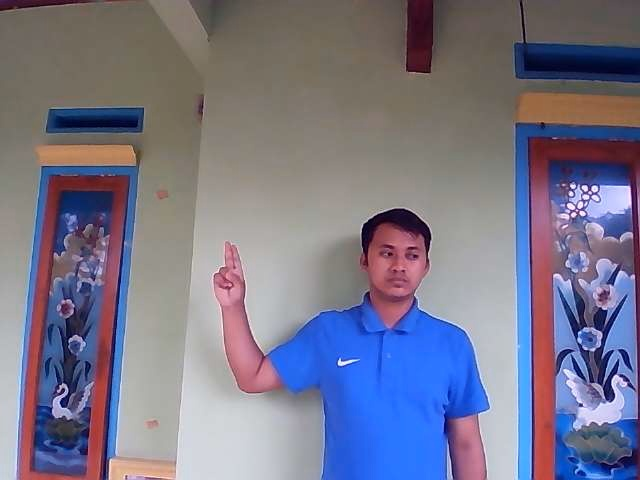U: (212, 241, 246, 307)
